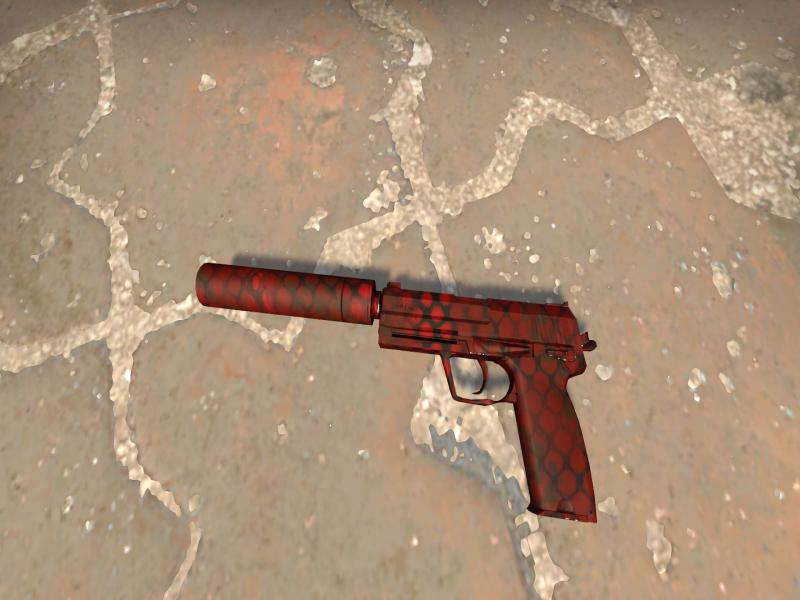USP: (195, 264, 597, 522)
